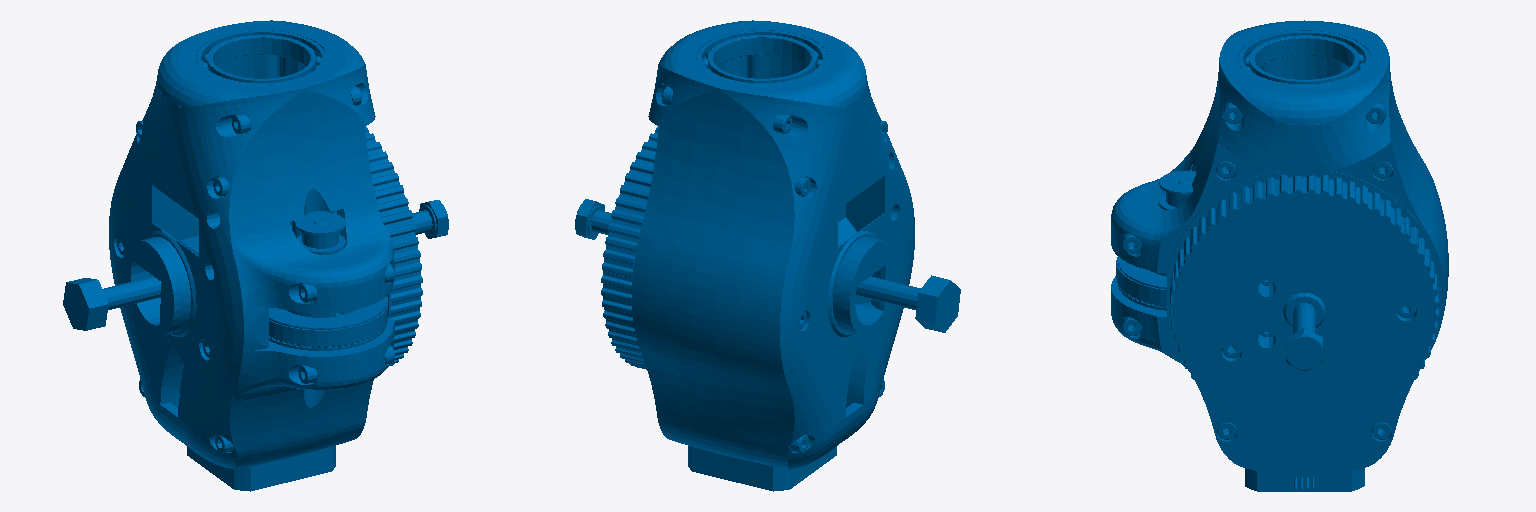
robot.urdf — mantis:
<?xml version="1.0"?>
<robot  name="mantis" >
 <link  name="world" />
 <joint  name="world_mantis_joint"  type="fixed" >
  <origin  xyz="0 0 0"  rpy="0 0 0" />
  <parent  link="world" />
  <child  link="mantis_link_0" />
 </joint>
 <link  name="mantis_link_0" >
  <inertial >
   <origin  xyz="0.0 0.0 0.0"  rpy="0 0 0" />
   <mass  value="5" />
   <inertia  ixy="0"  izz="0"  iyz="0"  iyy="0"  ixx="0"  ixz="0.0" />
  </inertial>
  <visual >
   <origin  xyz="0 0 0" />
   <geometry >
    <mesh  filename="package://mantis/visual/Link_0.stl" />
   </geometry>
   <material  name="Grey" />
  </visual>
  <collision >
   <origin  xyz="0 0 0" />
   <geometry >
    <mesh  filename="package://mantis/visual/Link_0.stl" />
   </geometry>
   <material  name="Grey" />
  </collision>
 </link>
 <joint  name="mantis_joint_1"  type="revolute" >
  <parent  link="mantis_link_0" />
  <child  link="mantis_link_1" />
  <origin  xyz="0.0 0.0 0.0"  rpy="0 0 0" />
  <axis  xyz="0 0 1" />
  <limit  effort="300"  velocity="10"  lower="-3.141592653589793"  upper="3.141592653589793" />
  <safety_controller  soft_lower_limit="-2.9670597283903604"  k_position="100"  soft_upper_limit="2.9670597283903604"  k_velocity="2" />
  <dynamics  damping="0.5" />
 </joint>
 <link  name="mantis_link_1" >
  <inertial >
   <origin  xyz="0.0 0.0 0.0"  rpy="0 0 0" />
   <mass  value="4" />
   <inertia  ixy="1"  izz="0.02"  iyz="0"  iyy="0.0"  ixx="0"  ixz="0" />
  </inertial>
  <visual >
   <origin  xyz="0 0 0.0" />
   <geometry >
    <mesh  filename="package://mantis/visual/Link_1.stl" />
   </geometry>
   <material  name="Orange" />
  </visual>
  <collision >
   <origin  xyz="0 0 0.0" />
   <geometry >
    <mesh  filename="package://mantis/visual/Link_1.stl" />
   </geometry>
   <material  name="Orange" />
  </collision>
 </link>
 <joint  name="mantis_joint_2"  type="revolute" >
  <parent  link="mantis_link_1" />
  <child  link="mantis_link_2" />
  <origin  xyz="0.0 0.0 0.297"  rpy="0 0 0" />
  <axis  xyz="1 0 0" />
  <limit  effort="300"  velocity="10"  lower="-2.0943951023931953"  upper="2.0943951023931953" />
  <safety_controller  soft_lower_limit="-1.7453292519943295"  k_position="100"  soft_upper_limit="1.7453292519943295"  k_velocity="2" />
  <dynamics  damping="0.5" />
 </joint>
 <link  name="mantis_link_2" >
  <inertial >
   <origin  xyz="0 0.0 0.0"  rpy="0 0 0" />
   <mass  value="4" />
   <inertia  ixy="0"  izz="0.0"  iyz="0"  iyy="0.0"  ixx="0.0"  ixz="0.0" />
  </inertial>
  <visual >
   <origin  xyz="0 0 0" />
   <geometry >
    <mesh  filename="package://mantis/visual/Link_2.stl" />
   </geometry>
   <material  name="Orange" />
  </visual>
  <collision >
   <origin  xyz="0 0 0" />
   <geometry >
    <mesh  filename="package://mantis/visual/Link_2.stl" />
   </geometry>
   <material  name="Orange" />
  </collision>
 </link>
 <joint  name="mantis_joint_3"  type="revolute" >
  <parent  link="mantis_link_2" />
  <child  link="mantis_link_3" />
  <origin  xyz="0.0 0.0 0.225"  rpy="0 0 0" />
  <axis  xyz="1 0 0" />
  <limit  effort="300"  velocity="10"  lower="-2.2689280275926285"  upper="2.2689280275926285" />
  <safety_controller  soft_lower_limit="-2.0943951023931953"  k_position="100"  soft_upper_limit="2.0943951023931953"  k_velocity="2" />
  <dynamics  damping="0.5" />
 </joint>
 <link  name="mantis_link_3" >
  <inertial >
   <origin  xyz="0.0 0.0 0.0"  rpy="0 0 0" />
   <mass  value="3" />
   <inertia  ixy="0"  izz="0.0"  iyz="0"  iyy="0.0"  ixx="0.0"  ixz="0" />
  </inertial>
  <visual >
   <origin  xyz="0 0.0 0" />
   <geometry >
    <mesh  filename="package://mantis/visual/Link_3.stl" />
   </geometry>
   <material  name="Orange" />
  </visual>
  <collision >
   <origin  xyz="0 0.0 0" />
   <geometry >
    <mesh  filename="package://mantis/visual/Link_3.stl" />
   </geometry>
   <material  name="Orange" />
  </collision>
 </link>
 <joint  name="mantis_joint_4"  type="revolute" >
  <parent  link="mantis_link_3" />
  <child  link="mantis_link_4" />
  <origin  xyz="0.0 0.0 0.0"  rpy="0 0 0" />
  <axis  xyz="0 0 1" />
  <limit  effort="300"  velocity="10" />
  <safety_controller  k_position="100"  k_velocity="2" />
  <dynamics  damping="0.5" />
 </joint>
 <link  name="mantis_link_4" >
  <inertial >
   <origin  xyz="0.0 0.0 0.0"  rpy="0 0 0" />
   <mass  value="2.7" />
   <inertia  ixy="0"  izz="0.0"  iyz="0"  iyy="0.0"  ixx="0.03"  ixz="0" />
  </inertial>
  <visual >
   <origin  xyz="0 0 0" />
   <geometry >
    <mesh  filename="package://mantis/visual/Link_4.stl" />
   </geometry>
   <material  name="Orange" />
  </visual>
  <collision >
   <origin  xyz="0 0 0" />
   <geometry >
    <mesh  filename="package://mantis/visual/Link_4.stl" />
   </geometry>
   <material  name="Orange" />
  </collision>
 </link>
 <joint  name="mantis_joint_5"  type="revolute" >
  <parent  link="mantis_link_4" />
  <child  link="mantis_link_5" />
  <origin  xyz="0.0 0.0 0.228855"  rpy="0 0 0" />
  <axis  xyz="1 0 0" />
  <limit  effort="300"  velocity="10"  lower="-2.2689280275926285"  upper="2.2689280275926285" />
  <safety_controller  soft_lower_limit="-2.0943951023931953"  k_position="100"  soft_upper_limit="2.0943951023931953"  k_velocity="2" />
  <dynamics  damping="0.5" />
 </joint>
 <link  name="mantis_link_5" >
  <inertial >
   <origin  xyz="0.0 0.0 0.0"  rpy="0 0 0" />
   <mass  value="1.7" />
   <inertia  ixy="0"  izz="0.0"  iyz="0"  iyy="0.0"  ixx="0.0"  ixz="0" />
  </inertial>
  <visual >
   <origin  xyz="0 0 0" />
   <geometry >
    <mesh  filename="package://mantis/visual/Link_5.stl" />
   </geometry>
   <material  name="Orange" />
  </visual>
  <collision >
   <origin  xyz="0 0 0" />
   <geometry >
    <mesh  filename="package://mantis/visual/Link_5.stl" />
   </geometry>
   <material  name="Orange" />
  </collision>
 </link>
 <joint  name="mantis_joint_6"  type="revolute" >
  <parent  link="mantis_link_5" />
  <child  link="mantis_link_6" />
  <origin  xyz="0.0 0.0 0.047"  rpy="0 0 0" />
  <axis  xyz="0 0 1" />
  <limit  effort="300"  velocity="10" />
  <safety_controller  k_position="100"  k_velocity="2" />
  <dynamics  damping="0.5" />
 </joint>
 <link  name="mantis_link_6" >
  <inertial >
   <origin  xyz="0.0 0.0 0.0"  rpy="0 0 0" />
   <mass  value="1.8" />
   <inertia  ixy="0"  izz="0.0"  iyz="0"  iyy="0.0"  ixx="0.0"  ixz="0" />
  </inertial>
  <visual >
   <origin  xyz="0 0 0" />
   <geometry >
    <mesh  filename="package://mantis/visual/Link_6.stl" />
   </geometry>
   <material  name="Orange" />
  </visual>
  <collision >
   <origin  xyz="0 0 0" />
   <geometry >
    <mesh  filename="package://mantis/visual/Link_6.stl" />
   </geometry>
   <material  name="Orange" />
  </collision>
 </link>
 <joint  name="tool0_joint"  type="fixed" >
  <parent  link="mantis_link_6" />
  <child  link="mantis_link_ee" />
  <origin  xyz="0 0 0.04"  rpy="0 -1.5707963267948966 0" />
 </joint>
 <link  name="mantis_link_ee" />
</robot>

--- Render facts (derived) ---
3 views of the same robot in one strip: view 1: azimuth 30°, elevation 25°; view 2: azimuth 150°, elevation 25°; view 3: azimuth 270°, elevation 25° (orthographic).
Model mantis with 9 links and 8 joints (6 revolute, 2 fixed), rooted at world, posed every joint at zero.
Links seen in each view (by area): view 1: mantis_link_3; view 2: mantis_link_3; view 3: mantis_link_3.
Boxes of the visible links, x1,y1,x2,y2 form: mantis_link_3: (63,20,448,491); mantis_link_3: (575,20,960,491); mantis_link_3: (1111,20,1448,491).
Bounding box of the posed robot: 0.1496 × 0.1187 × 0.158 m (x, y, z).
Meshes: 7 distinct files referenced, 1 mesh visuals loaded (1 binary STL); not drawn: 6 (reference not matched to a file when rendering).